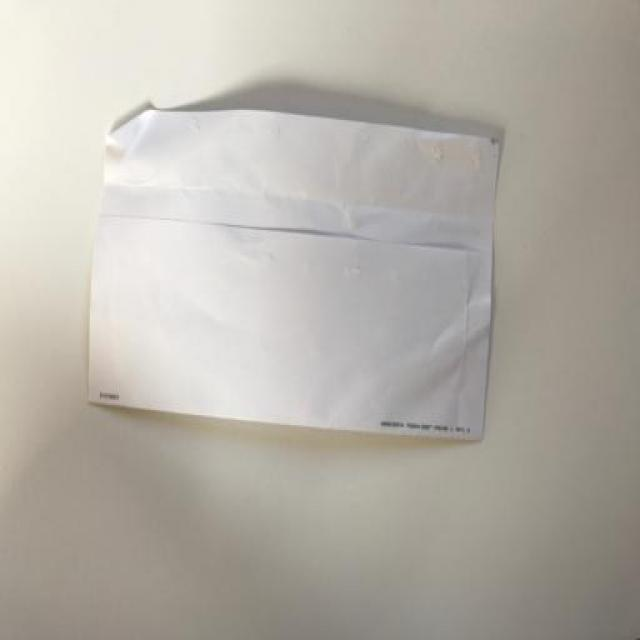paper: (71, 92, 560, 483)
